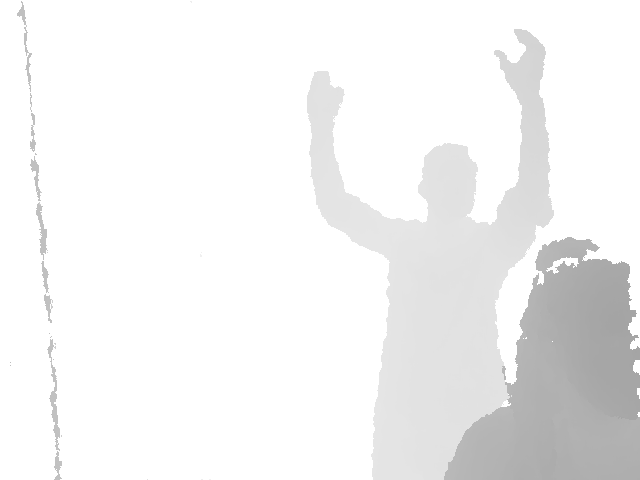hand: (493, 27, 546, 94), (306, 69, 345, 129)
head: (507, 238, 640, 418), (415, 142, 479, 216)
person: (306, 26, 556, 480), (440, 235, 640, 480)
